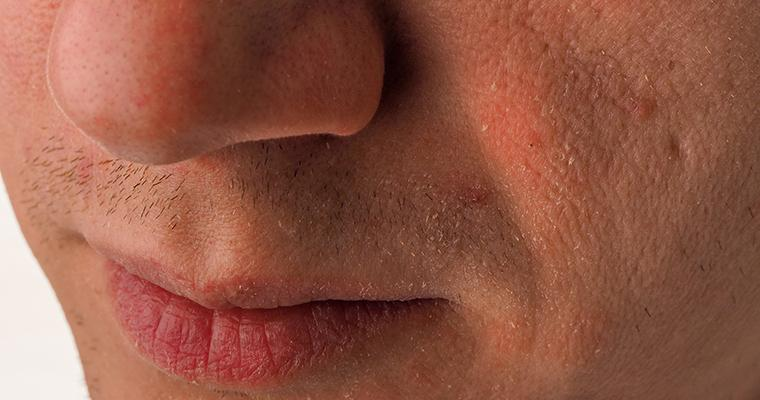Englarged-Pores: (551, 126, 649, 287)
